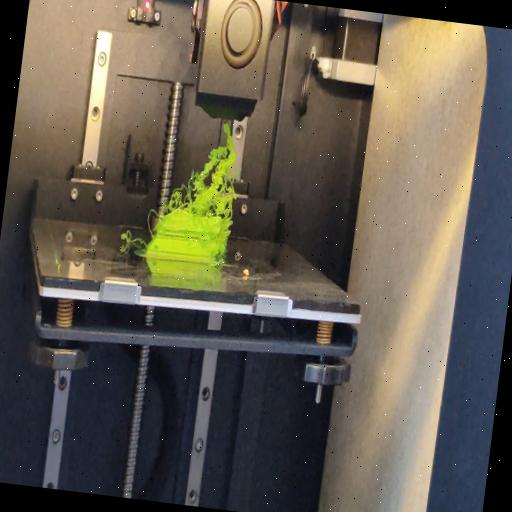spaghetti: (159, 122, 247, 224), (216, 226, 230, 264), (120, 230, 148, 246), (146, 208, 158, 236)
